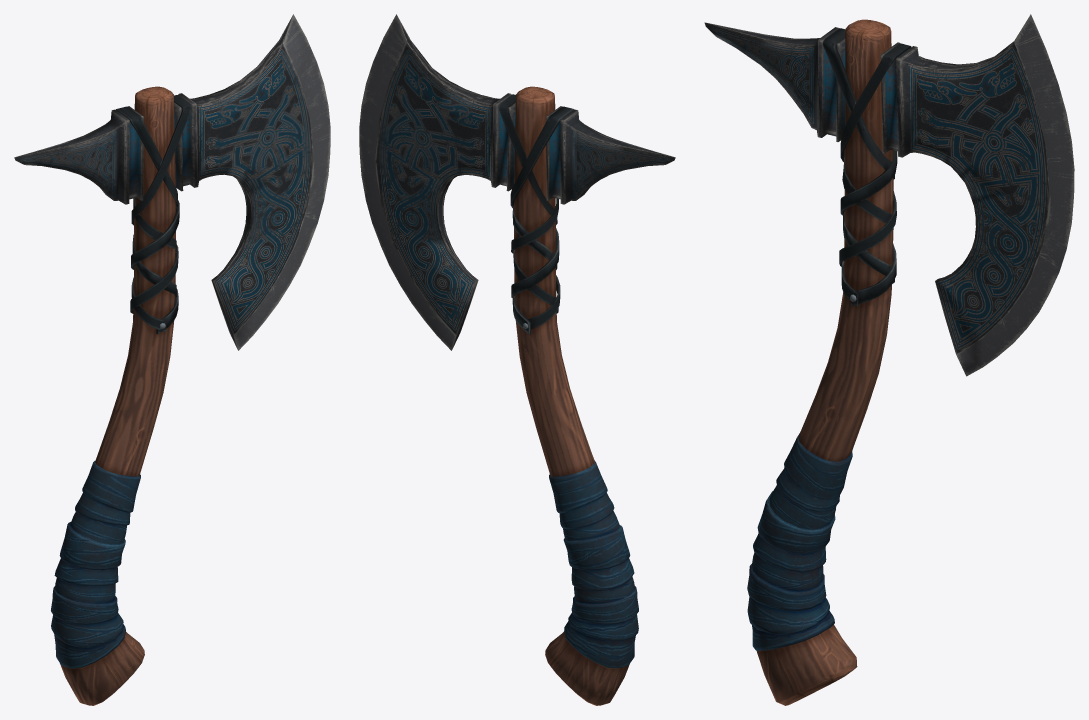
File: viking_axe.glb
3 renders of one model, left to right at view 1: azimuth 30°, elevation 25°; view 2: azimuth 150°, elevation 25°; view 3: azimuth 330°, elevation 25°, orthographic. The views are drawn at different scales.
Parts seen in each view (by area): view 1: Object_2; view 2: Object_2; view 3: Object_2.
Boxes of the visible parts, x1,y1,x2,y2 form: Object_2: [14, 14, 330, 705]; Object_2: [359, 14, 675, 705]; Object_2: [704, 14, 1074, 705].
Bounding box in the file's own units: 2.13 × 4.12 × 0.3751.
1 material, 1 textured.
